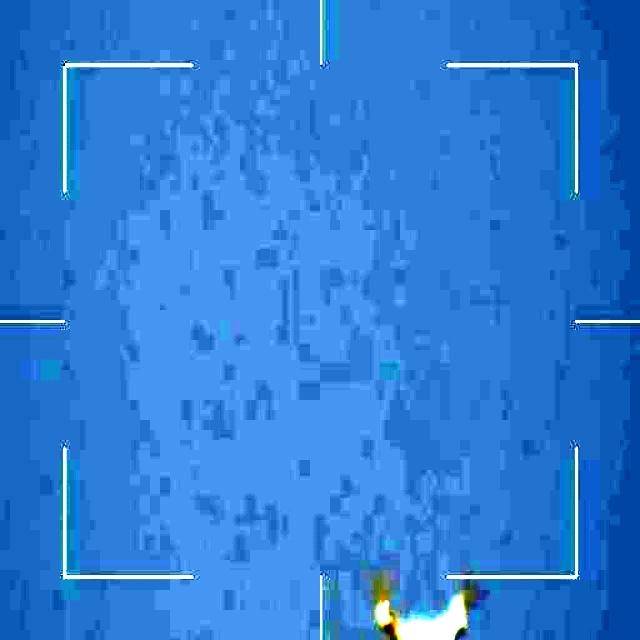bird: (361, 581, 480, 640)
